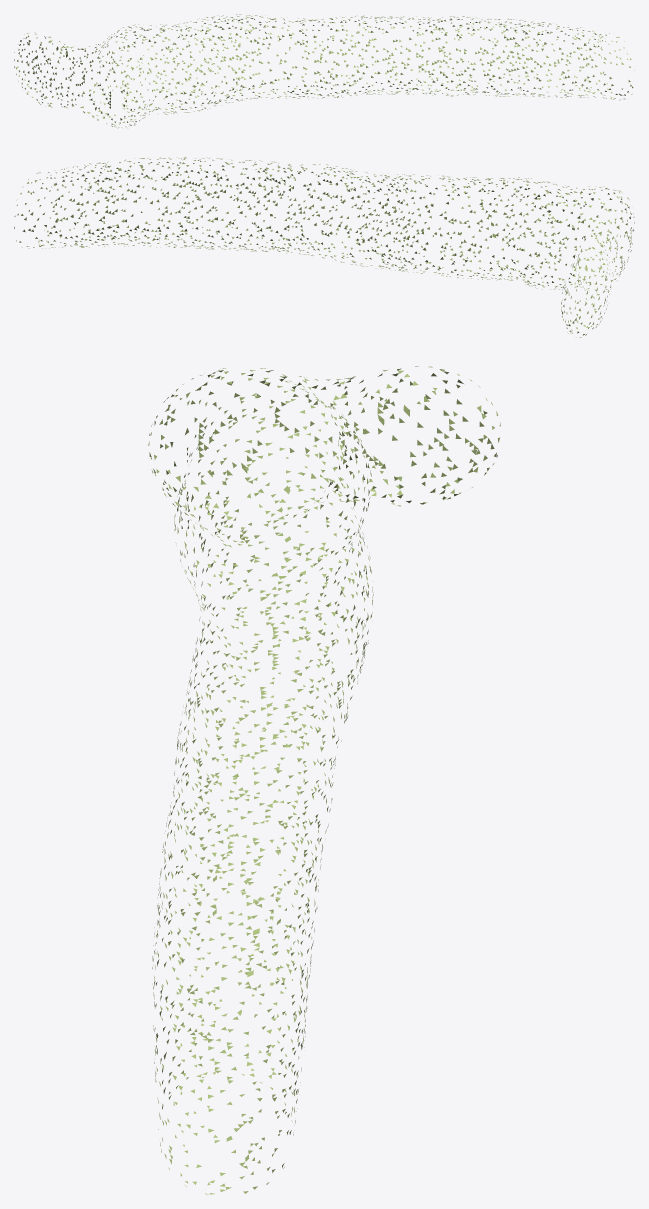
File: morph_011.glb
The picture shows the model from 3 angles, top to bottom: view 1: azimuth 30°, elevation 25°; view 2: azimuth 150°, elevation 25°; view 3: azimuth 270°, elevation 25°; orthographic projection. The views are drawn at different scales.
Bounding box in the file's own units: 143 × 43.2 × 40.27.
